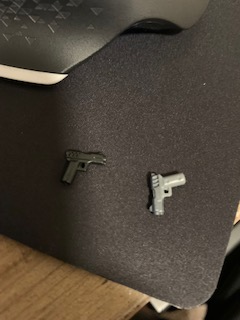pistol: (143, 169, 190, 220), (56, 146, 109, 185)
